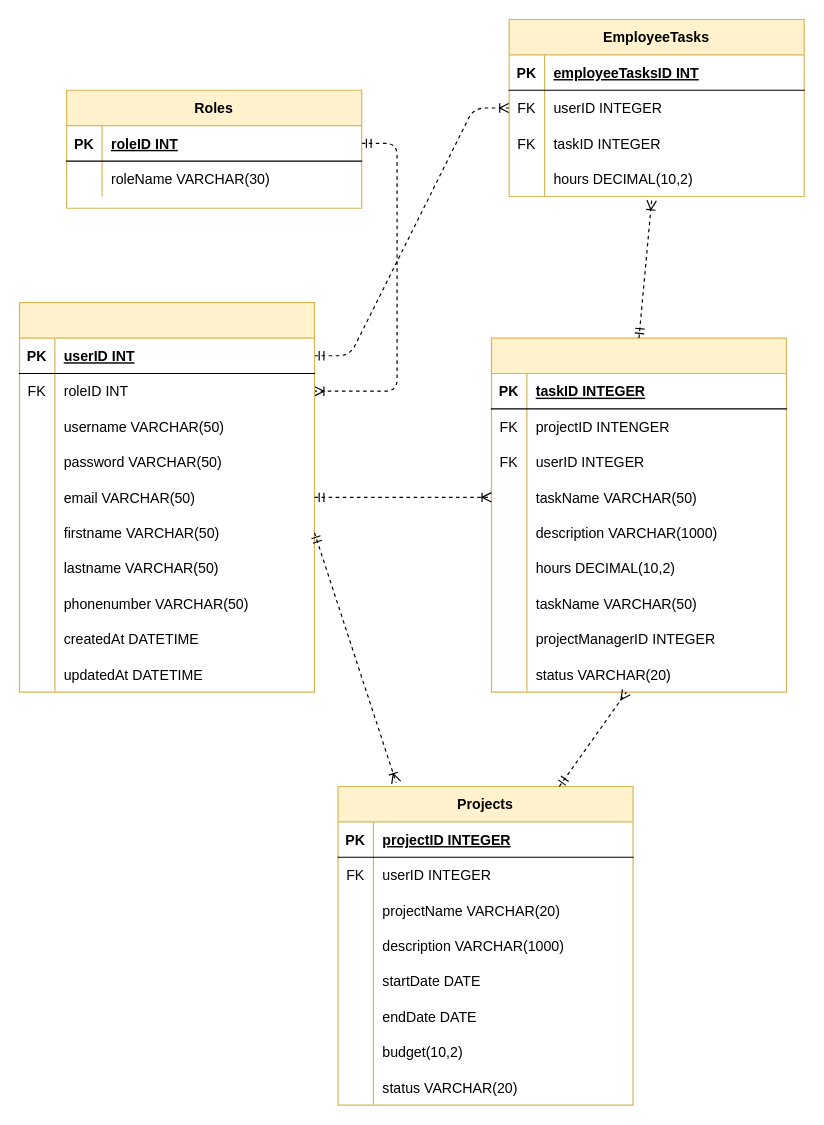
Image size: 824x1125. Some labels were removed from this diagram. The box of each missing label's shape, as (x1, y1, x2, y2) in pixels:
Tasks: (490, 337, 786, 692)
Users: (18, 301, 314, 692)
